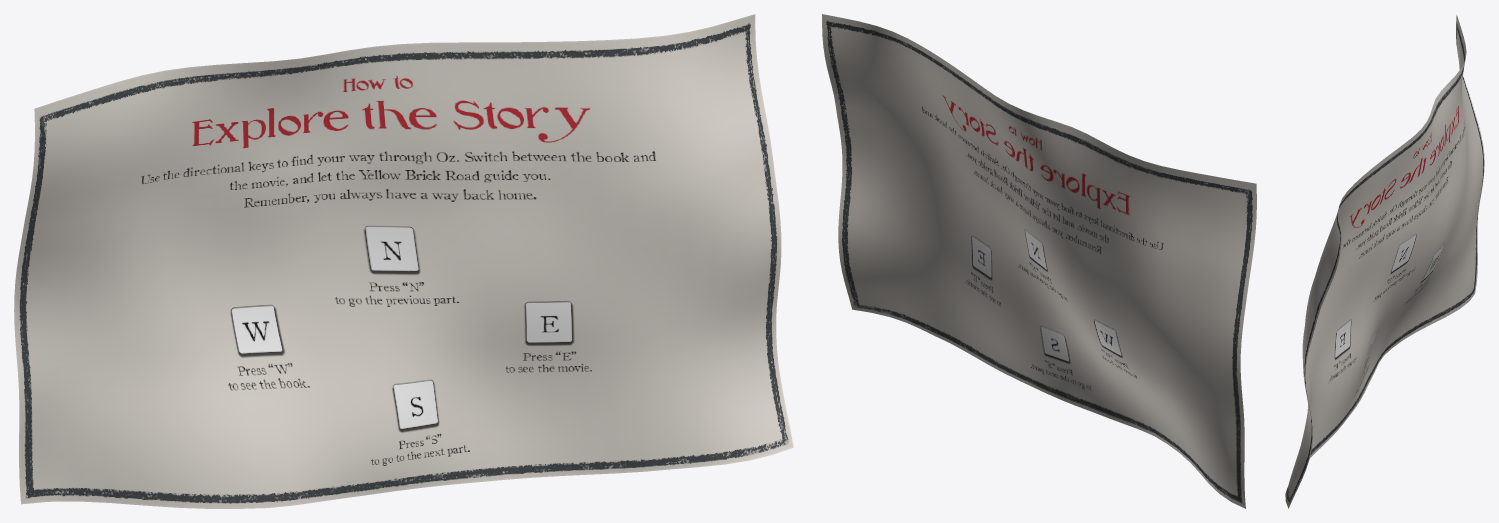
File: HowtoExplore.glb
The picture shows the model from 3 angles, left to right: view 1: azimuth 30°, elevation 25°; view 2: azimuth 150°, elevation 25°; view 3: azimuth 270°, elevation 25°; orthographic projection. The views are drawn at different scales.
Parts seen in each view (by area): view 1: About.001; view 2: About.001; view 3: About.001.
Part boxes in pixels (x1,y1,x2,y2): About.001: (14,14,793,508); About.001: (822,14,1256,508); About.001: (1285,15,1484,508).
Bounding box in the file's own units: 0.2876 × 0.1747 × 0.1127.
Materials: 1 (1 with a texture image).
